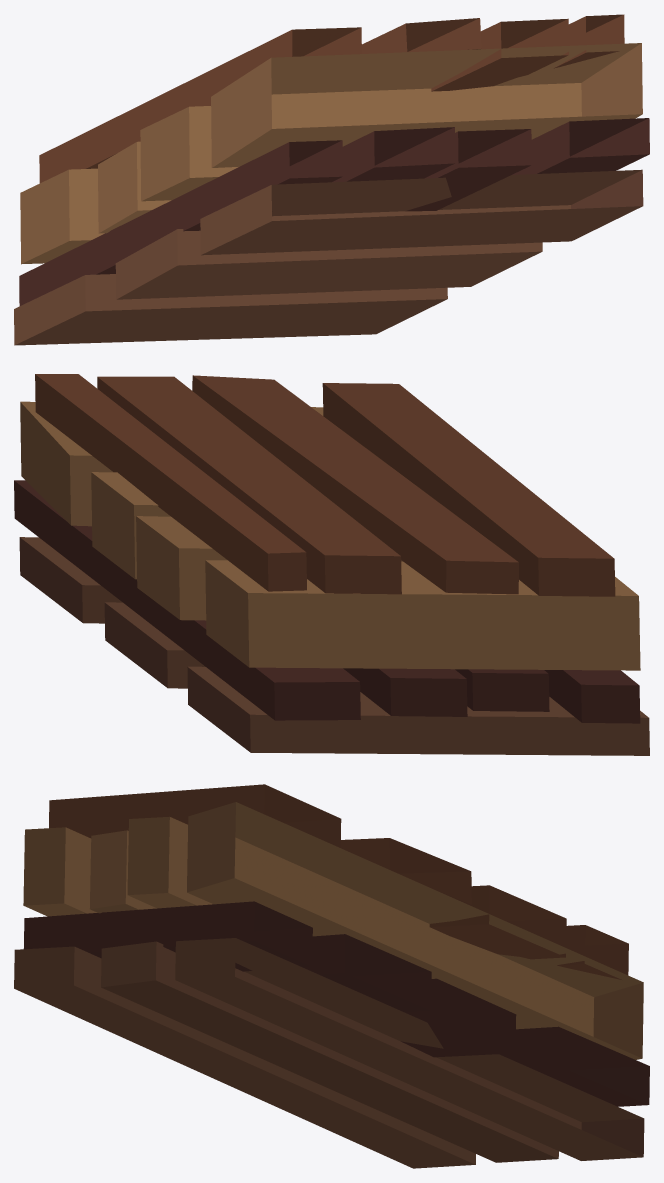
The model's file is icon_planks_old.fbx.
The picture shows the model from 3 angles, top to bottom: view 1: azimuth 30°, elevation 25°; view 2: azimuth 150°, elevation 25°; view 3: azimuth 330°, elevation 25°; orthographic projection. The views are drawn at different scales.
Visible parts, largest first — view 1: icon_planks.001; view 2: icon_planks.001; view 3: icon_planks.001.
Part boxes in pixels (bbox=[...]): icon_planks.001: bbox=[14, 14, 649, 345]; icon_planks.001: bbox=[14, 374, 649, 755]; icon_planks.001: bbox=[14, 784, 649, 1168].
Bounding box in the file's own units: 55.11 × 30.15 × 5.32.
